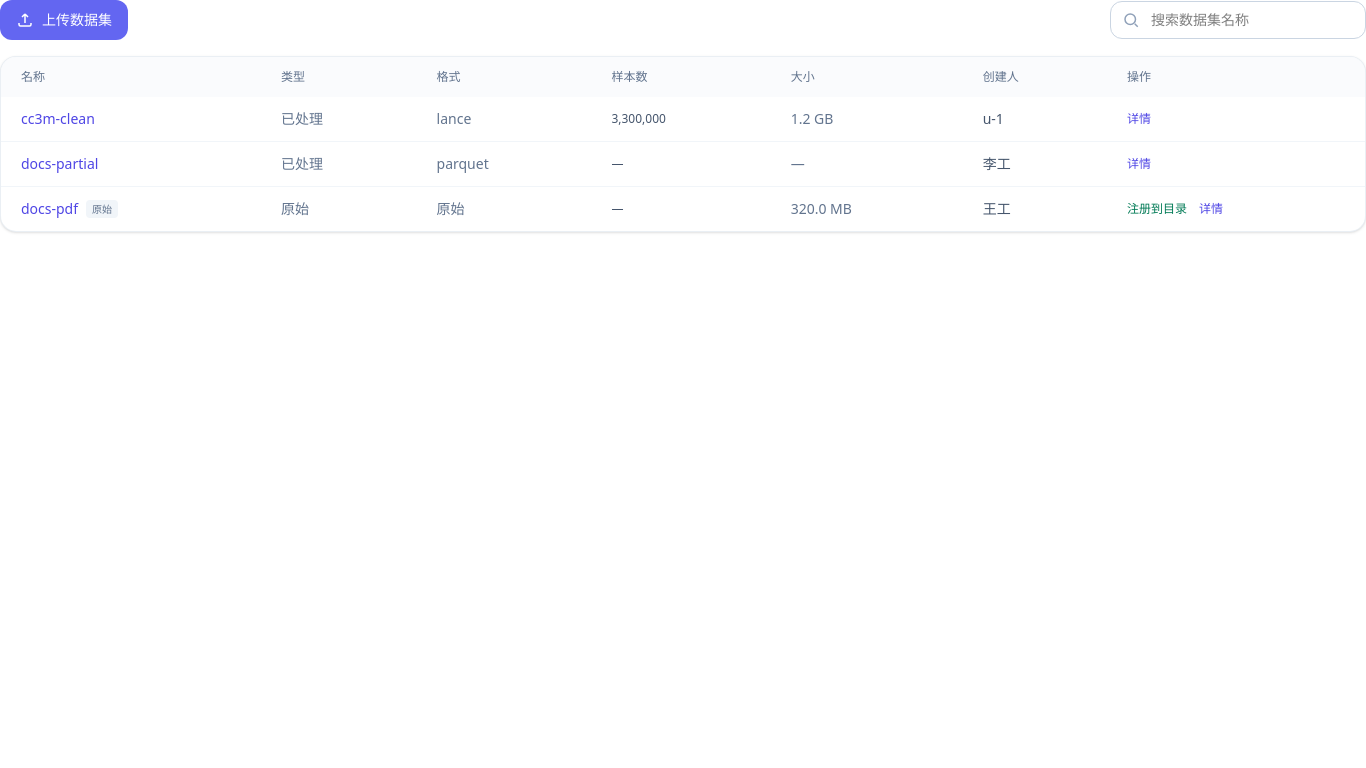
Test case: 点详情打开侧抽屉,展示 location/scope 等已有字段,不显 e-/g- 内部 ID(US1 AC4 / FR-004)
Expected: the text "cc3m-clean" is shown, [21,109,95,128]
# 点该行的「详情」按钮
What coordinates should you click on to do the following:
click the button "详情" in the row of "cc3m-clean"
I would click on:
 (1139, 119)
Its box is [1127,111,1151,127].
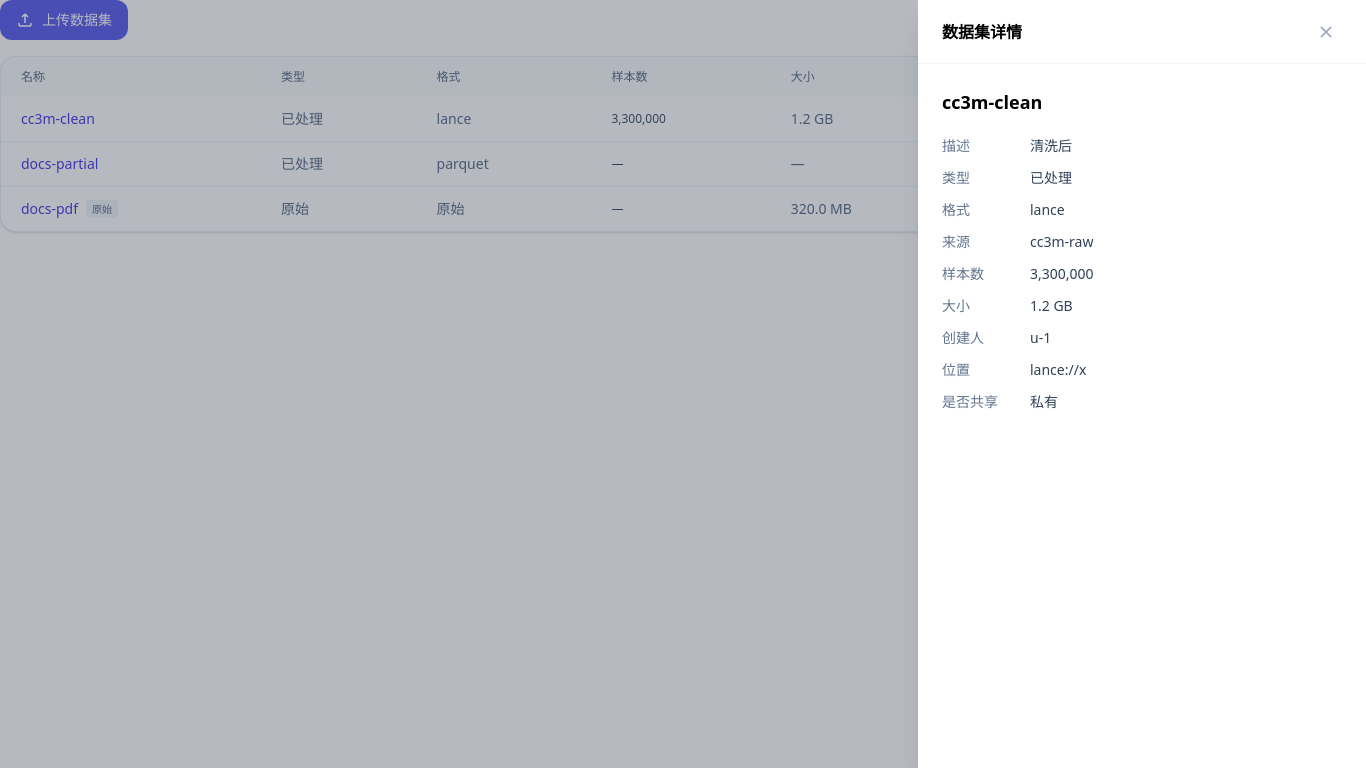
Expected: the text "位置" is shown, [942,360,970,379]
Expected: the text "lance://x" is shown, [1030,360,1086,379]
Expected: the text "是否共享" is shown, [942,392,998,411]
